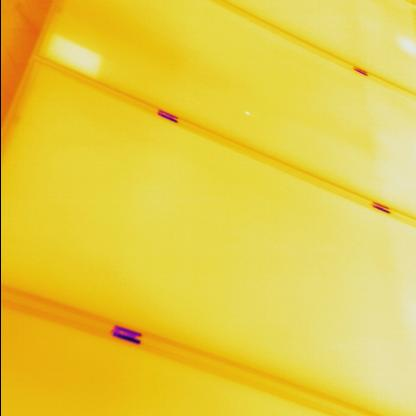hotspot: (40, 25, 105, 83)
